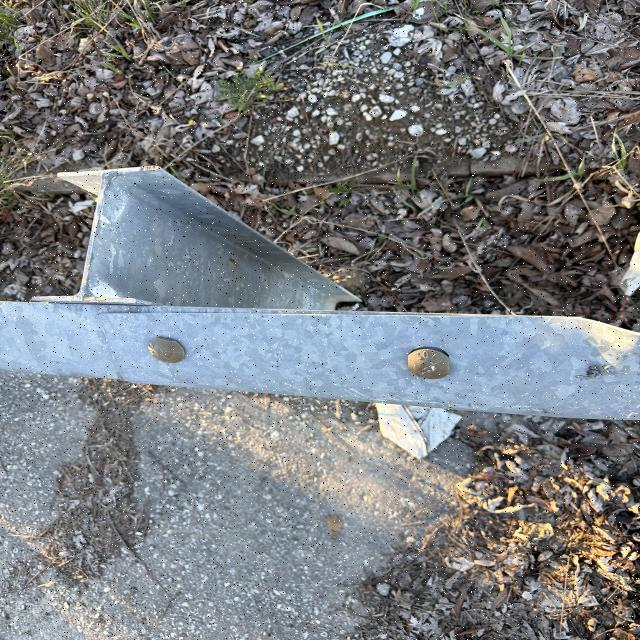Guard rail: (7, 197, 610, 401)
